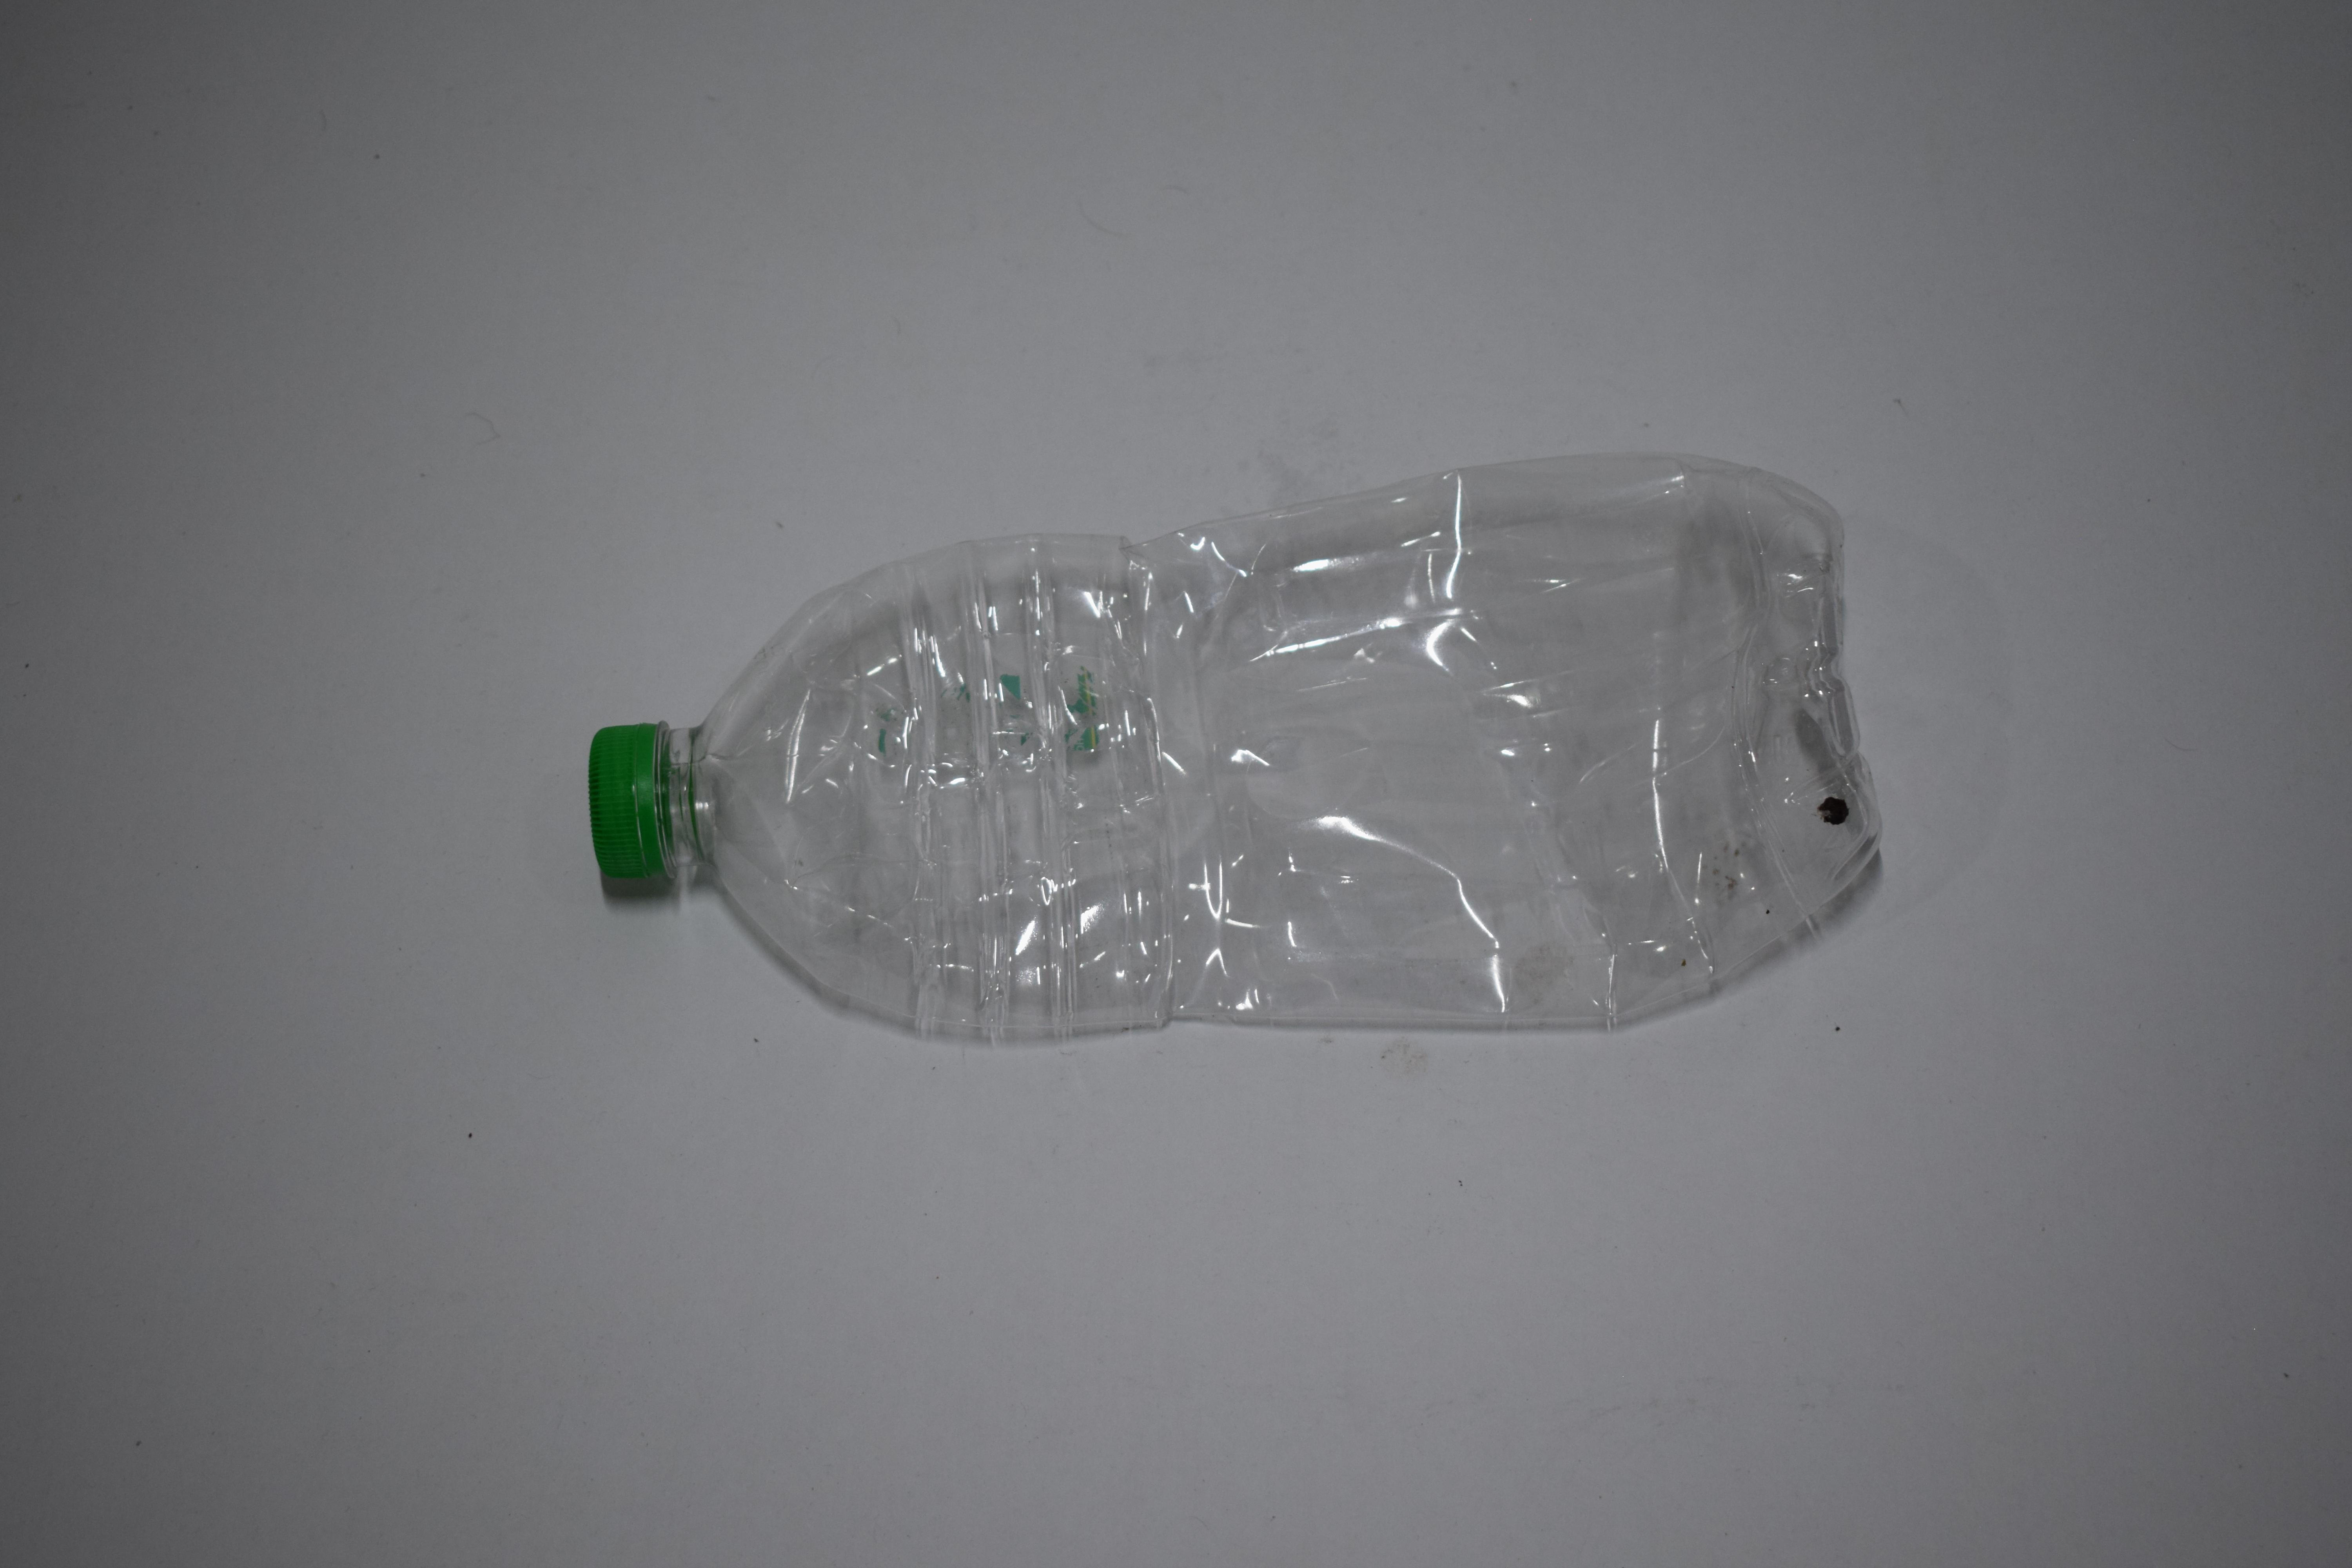bottle: (39, 448, 59, 1053)
